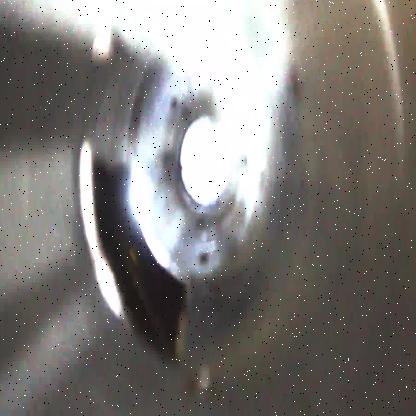Crack2: (84, 156, 186, 371)
